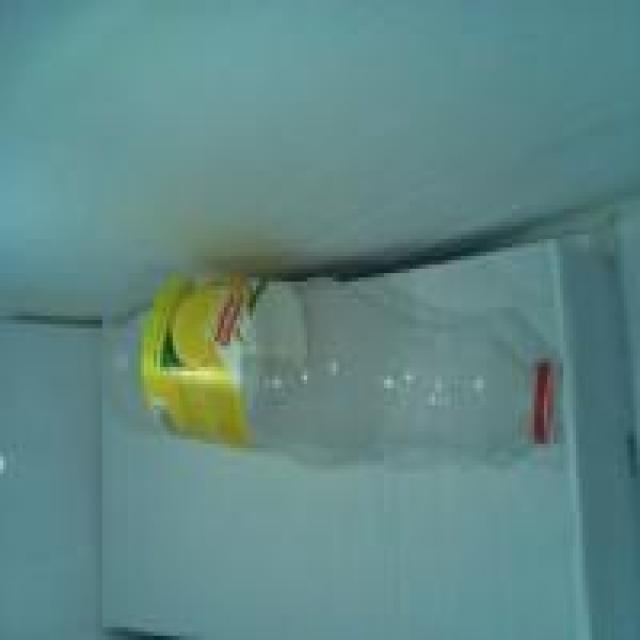bottle: (97, 268, 560, 494)
